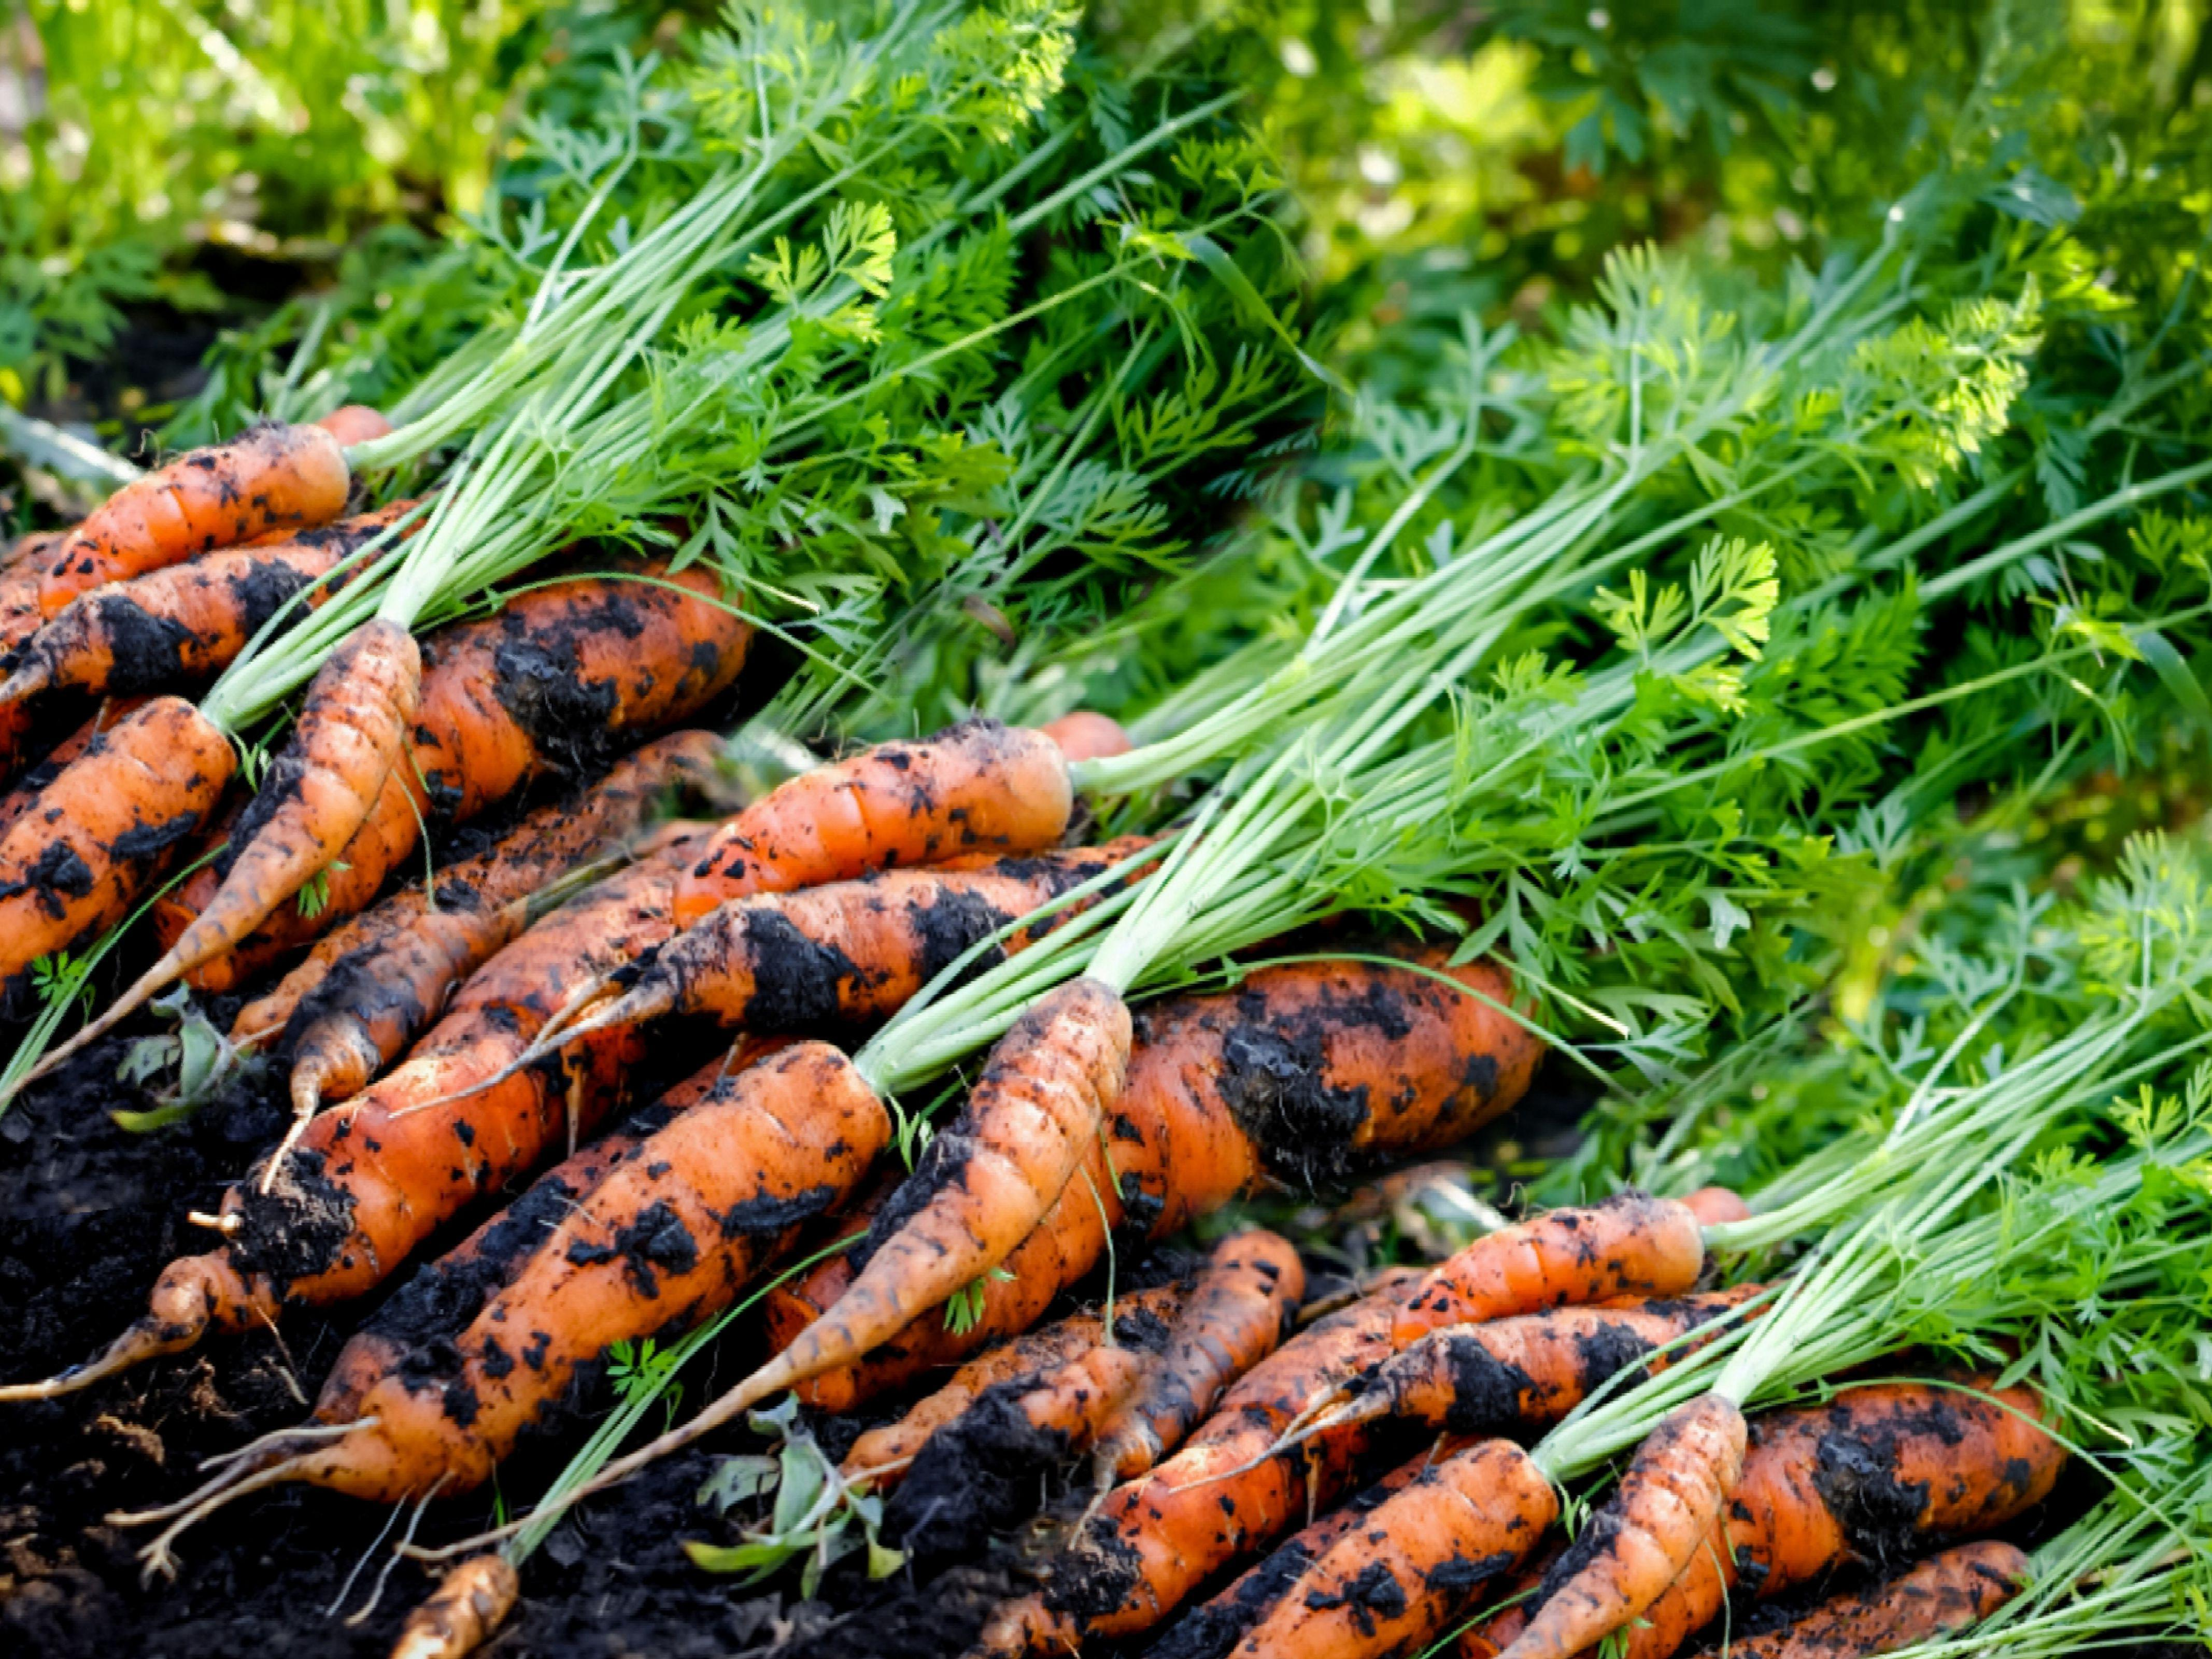carrot: (12, 432, 2212, 1659), (66, 547, 1778, 1659), (204, 633, 1651, 1645), (446, 871, 1312, 1544)
